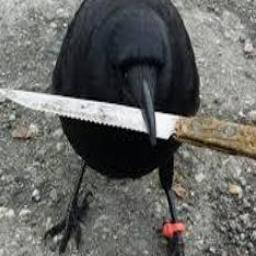Crow: (42, 0, 206, 256)
